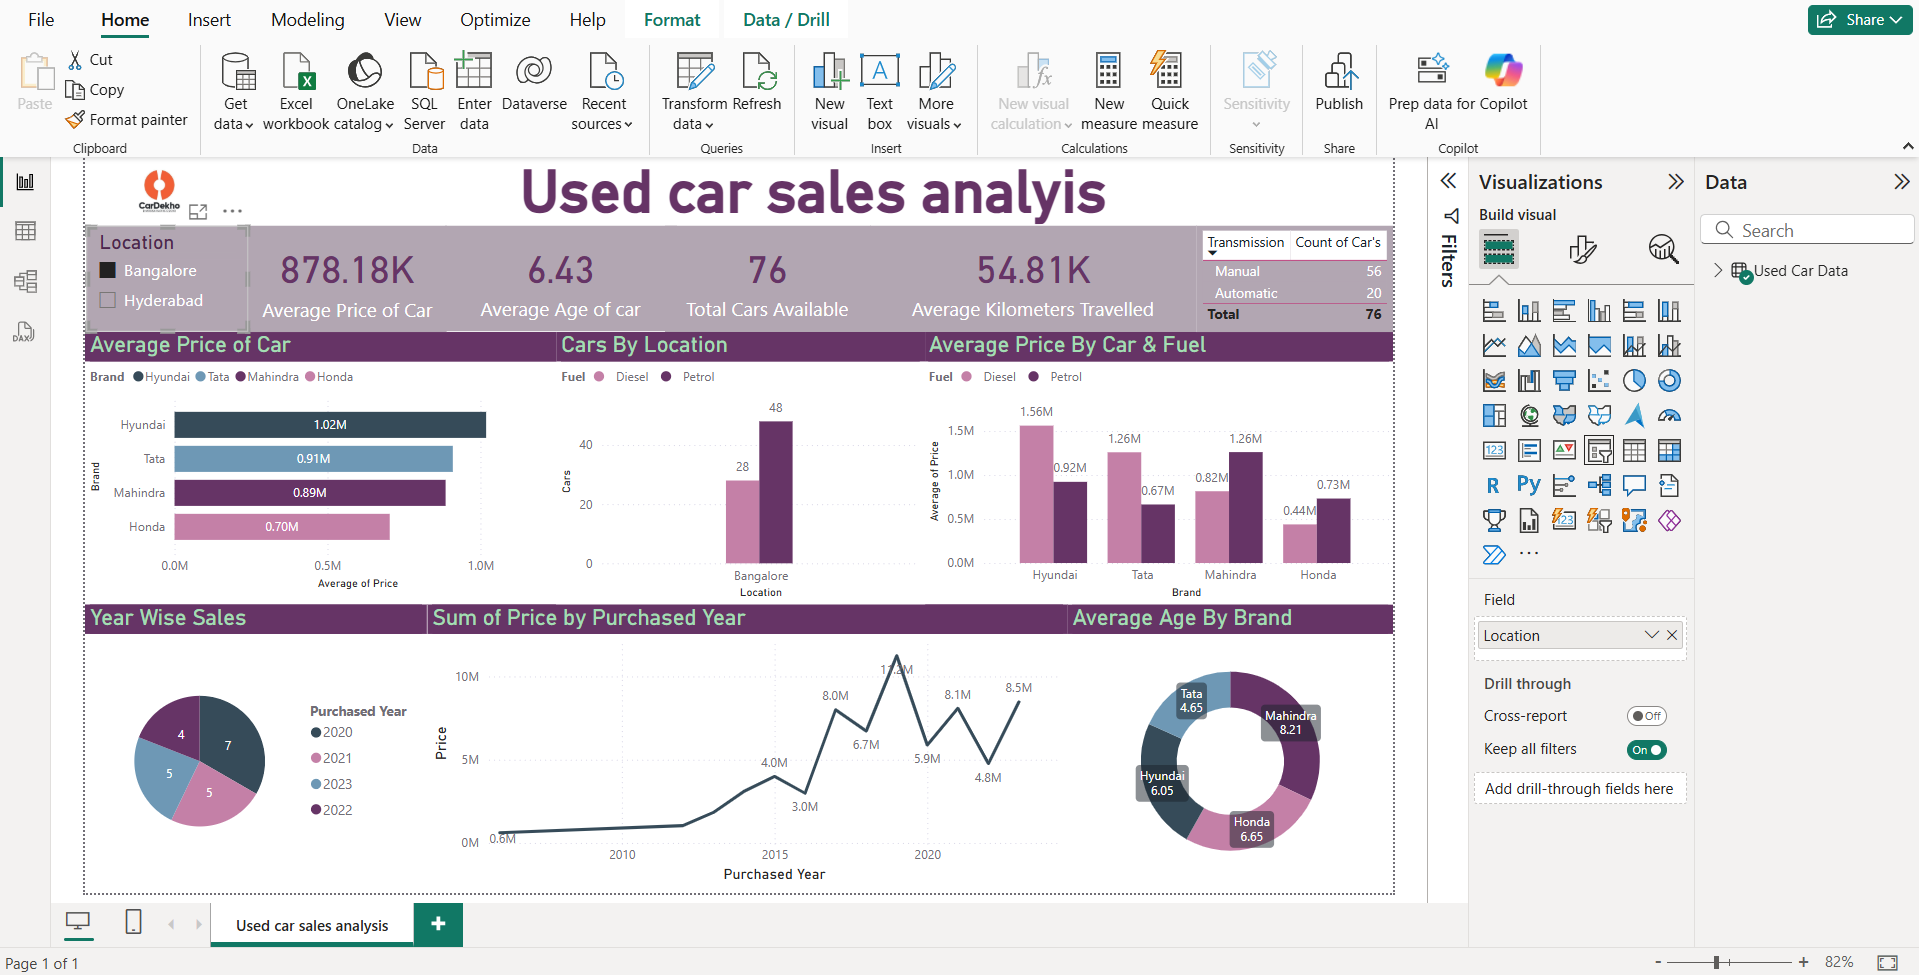

The page's visual inventory and layout, read from the dashboard file:
{"tool":"powerbi","page":{"name":"Used car sales analysis","canvas":[1280,720],"ordinal":0},"visuals":[{"type":"barChart","title":"Average Price of Car","fields":{"Category":["Used Car Data.Car Company"],"Y":["Avg(Used Car Data.Price)"],"Series":["Used Car Data.Car Company"]},"box":[0,171.2,465.9,256.8],"z":0},{"type":"textbox","title":"Used car sales analyis","box":[145.3,0,1134.9,67.4],"z":1000},{"type":"pieChart","title":"Year Wise Sales","fields":{"Category":["Used Car Data.Purchased Year","Used Car Data.Car Company"],"Y":["CountNonNull(Used Car Data.Car Company)"]},"box":[0,437.3,334.8,282.9],"z":2000},{"type":"card","fields":{"Values":["Avg(Used Car Data.Age of car)"]},"box":[352.3,67.4,226.7,103.5],"z":3000},{"type":"card","fields":{"Values":["Avg(Used Car Data.Price)"]},"box":[160.2,67.3,193.2,103.9],"z":4000},{"type":"card","fields":{"Values":["CountNonNull(Used Car Data.Car Name)"]},"box":[566.9,67.6,200.6,103.7],"z":5000},{"type":"card","fields":{"Values":["Avg(Used Car Data.Kilometers Travelled)"]},"box":[767.6,67.6,319,103.7],"z":6000},{"type":"donutChart","title":"Average Age By Brand","fields":{"Category":["Used Car Data.Car Company"],"Y":["Avg(Used Car Data.Age of car)"]},"box":[961.4,437.3,319,282.9],"z":7000},{"type":"clusteredColumnChart","title":"Average Price By Car & Fuel","fields":{"Series":["Used Car Data.Fuel"],"Category":["Used Car Data.Car Company"],"Y":["Avg(Used Car Data.Price)"]},"box":[820.5,171.3,459.9,266],"z":8000},{"type":"slicer","fields":{"Values":["Used Car Data.Location"]},"box":[1.2,67.4,159.3,103.5],"z":9000},{"type":"image","box":[0,0,145.3,67.4],"z":10000},{"type":"lineChart","fields":{"Y":["Sum(Used Car Data.Price)"],"Category":["Used Car Data.Purchased Year"]},"box":[334.8,437.3,626.7,277.3],"z":11000},{"type":"clusteredColumnChart","title":"Cars By Location","fields":{"Category":["Used Car Data.Location"],"Y":["CountNonNull(Used Car Data.Car Name)"],"Series":["Used Car Data.Fuel"]},"box":[460.5,170.9,360.5,266.3],"z":12000},{"type":"tableEx","fields":{"Values":["Used Car Data.Transmission","Used Car Data.Car Company"]},"box":[1087.1,67.3,193.2,103.9],"z":13000}]}

Visuals, with their boxes on the page's 1280x720 design canvas (x1, y1, x2, y2). These are canvas units, not pixel positions in the 1919x975 screenshot, which may show the page scaled, cropped or inside an application window:
"Average Price of Car" barChart: bbox=[0, 171, 466, 428]
"Used car sales analyis" textbox: bbox=[145, 0, 1280, 67]
"Year Wise Sales" pieChart: bbox=[0, 437, 335, 720]
card - Avg(Used Car Data.Age of car): bbox=[352, 67, 579, 171]
card - Avg(Used Car Data.Price): bbox=[160, 67, 353, 171]
card - CountNonNull(Used Car Data.Car Name): bbox=[567, 68, 768, 171]
card - Avg(Used Car Data.Kilometers Travelled): bbox=[768, 68, 1087, 171]
"Average Age By Brand" donutChart: bbox=[961, 437, 1280, 720]
"Average Price By Car & Fuel" clusteredColumnChart: bbox=[820, 171, 1280, 437]
slicer - Used Car Data.Location: bbox=[1, 67, 160, 171]
image: bbox=[0, 0, 145, 67]
lineChart - Sum(Used Car Data.Price) x Used Car Data.Purchased Year: bbox=[335, 437, 962, 715]
"Cars By Location" clusteredColumnChart: bbox=[460, 171, 821, 437]
tableEx - Used Car Data.Transmission x Used Car Data.Car Company: bbox=[1087, 67, 1280, 171]
